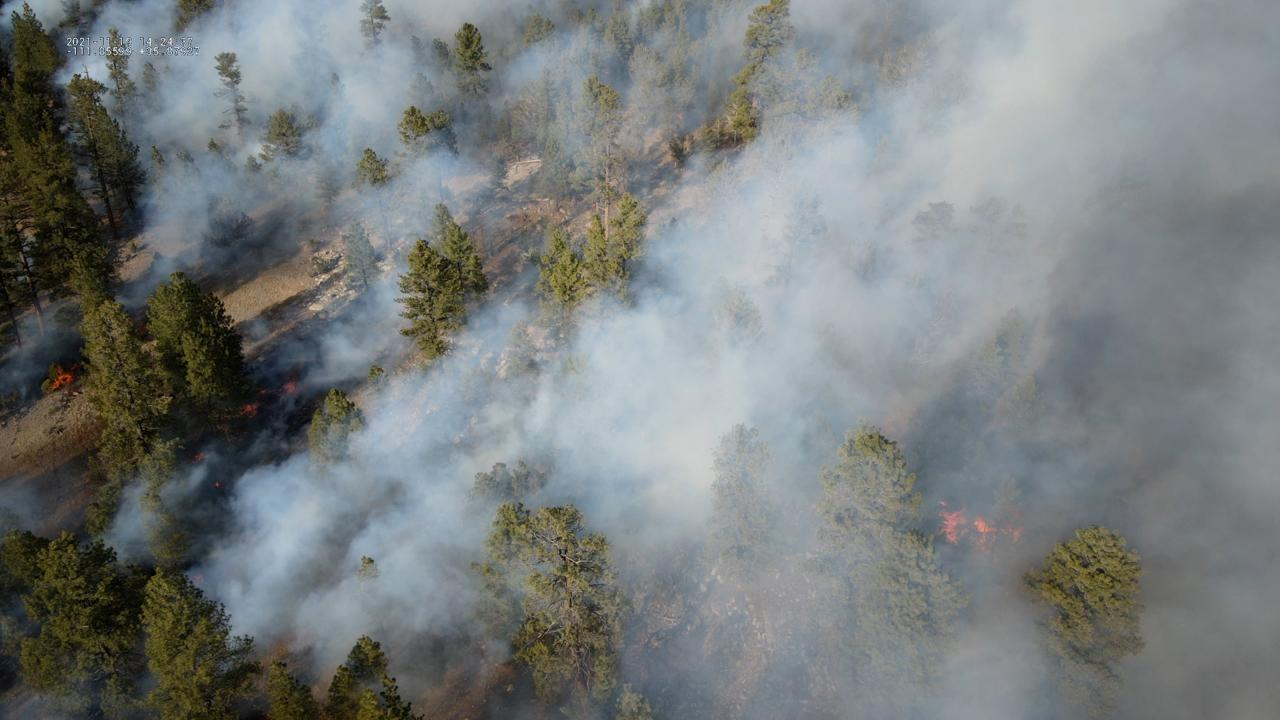fire: (974, 514, 1023, 545), (937, 499, 969, 545), (253, 376, 298, 397), (46, 360, 75, 392), (238, 400, 259, 423), (189, 448, 215, 464)
smoke: (0, 0, 1280, 720)
